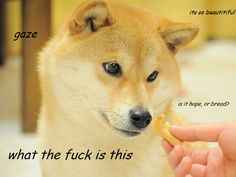doge: (41, 1, 185, 155)
